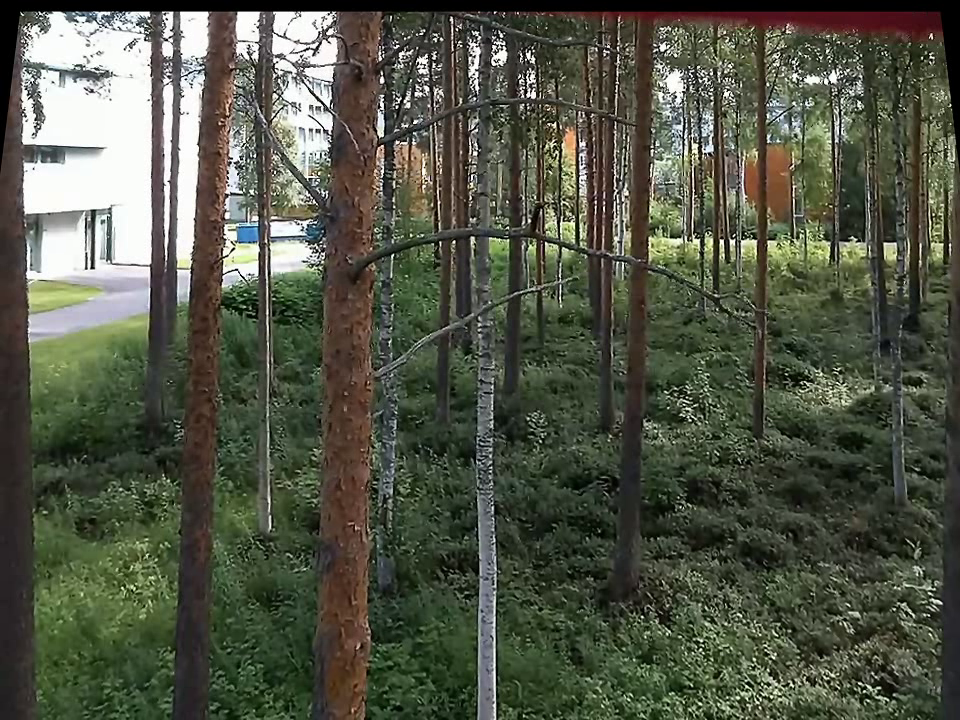branch: (372, 194, 763, 327), (374, 269, 582, 382), (366, 87, 639, 150)
trunk: (170, 16, 240, 712), (311, 14, 374, 716), (604, 34, 653, 593), (473, 26, 502, 716), (245, 19, 281, 538), (142, 15, 181, 422), (748, 39, 777, 441), (377, 85, 402, 535), (887, 159, 915, 512), (704, 38, 729, 333)
